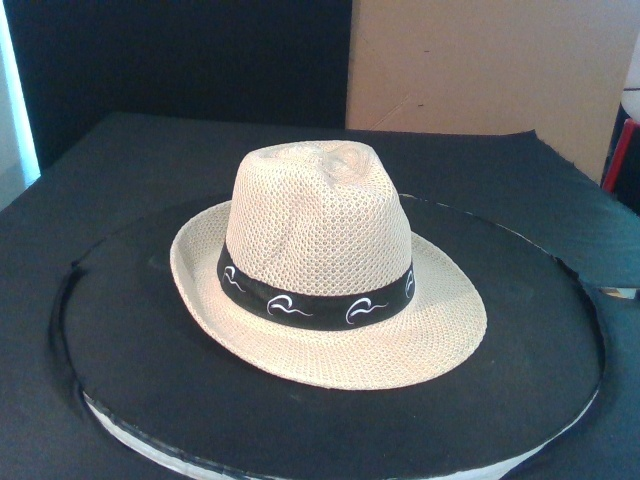hat: (171, 139, 488, 390)
